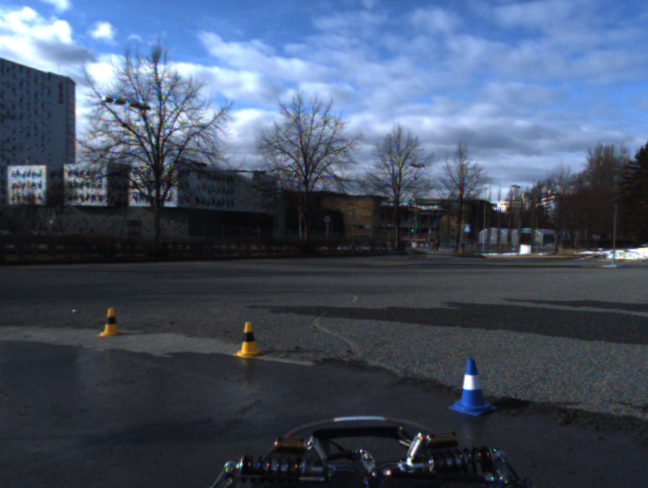cone-small-blue: (445, 357, 497, 416)
cone-small-yellow: (233, 321, 265, 359), (97, 307, 122, 337)
